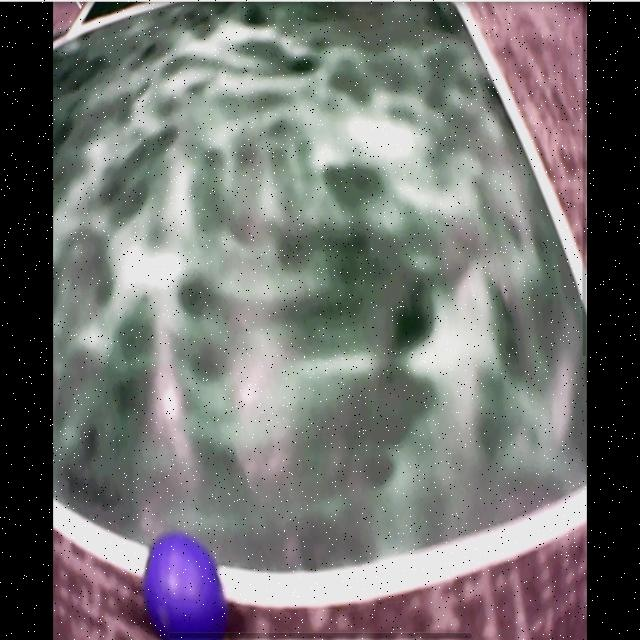ball: (147, 533, 225, 640)
